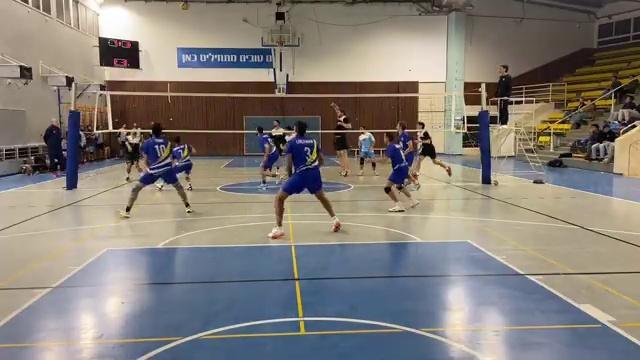ball: (177, 0, 194, 16)
